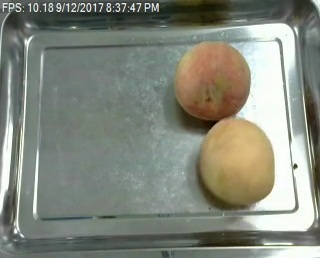Peach: (198, 117, 275, 206), (173, 39, 251, 118)
